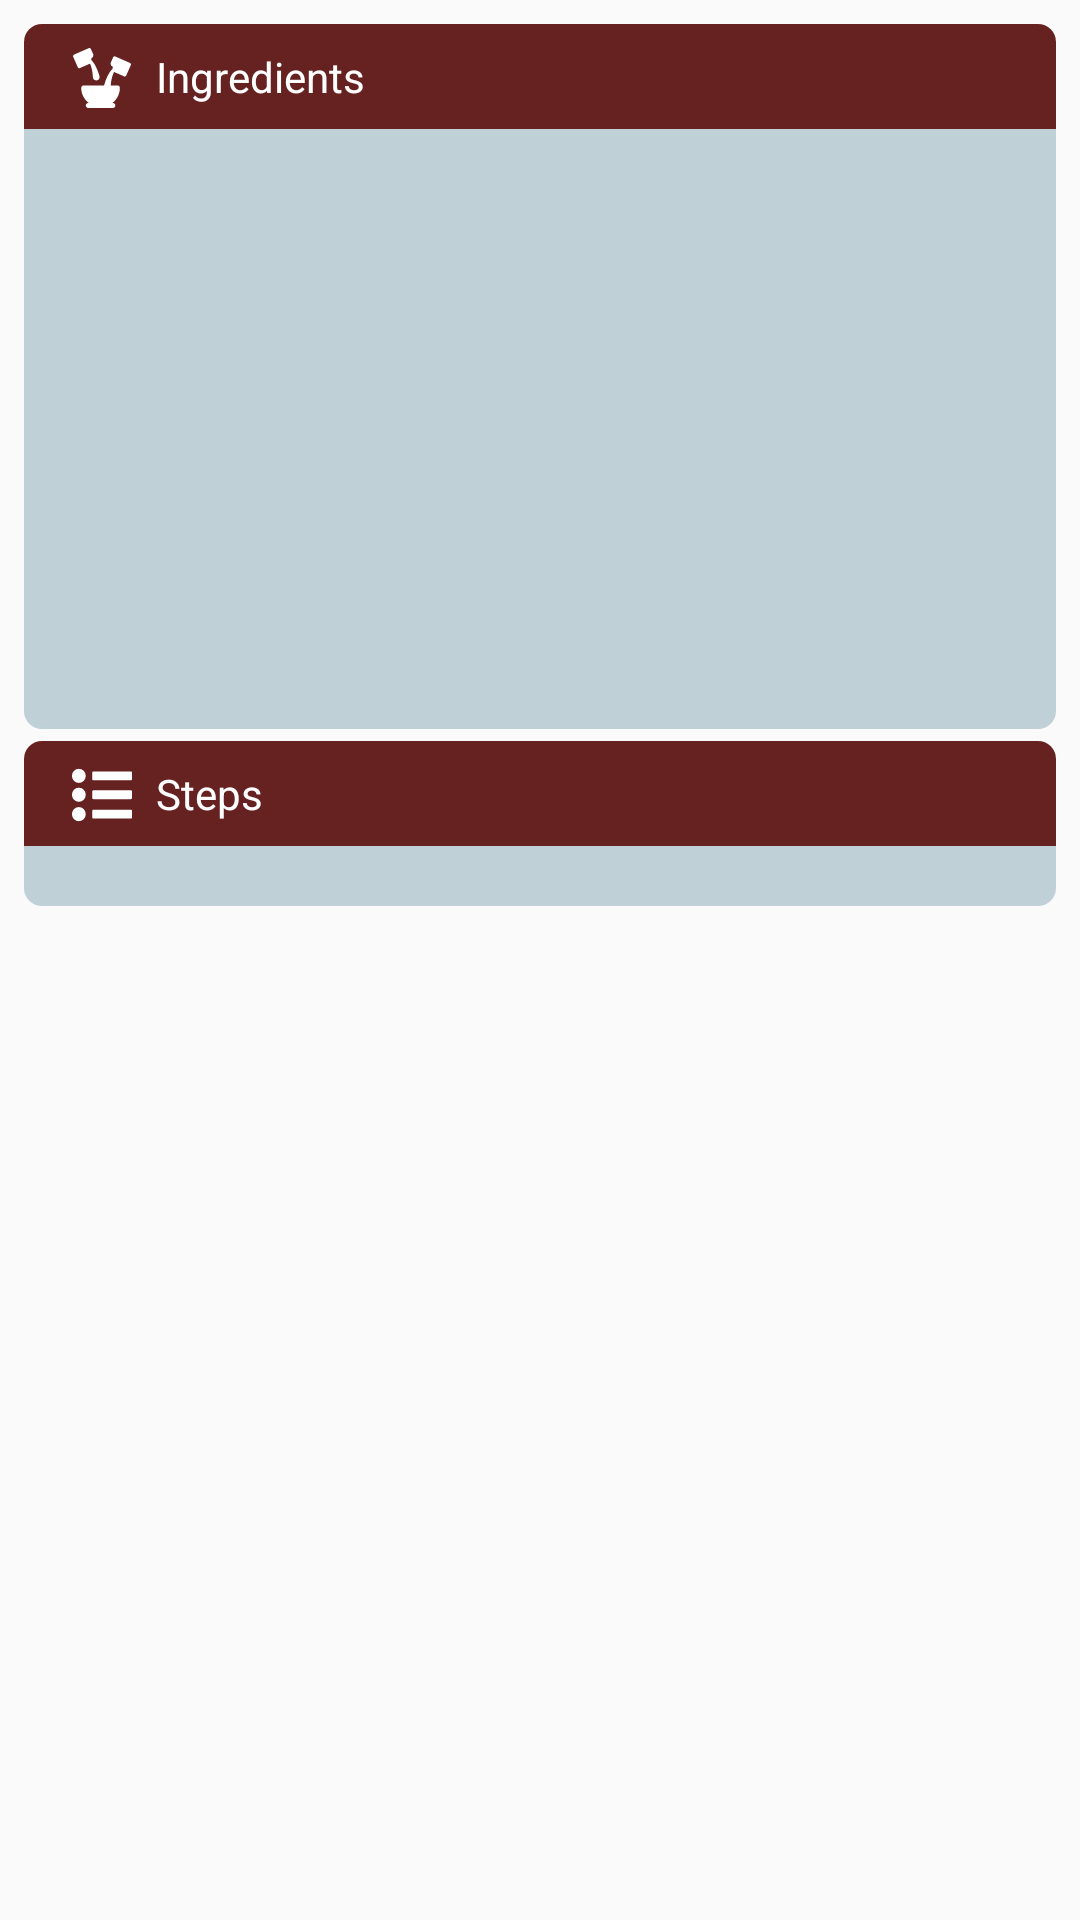

Screen size 1080 × 1920. Icon name, then its box in pixels as (x1, y1, x2, y2):
list with bullets: (72, 768, 132, 822)
